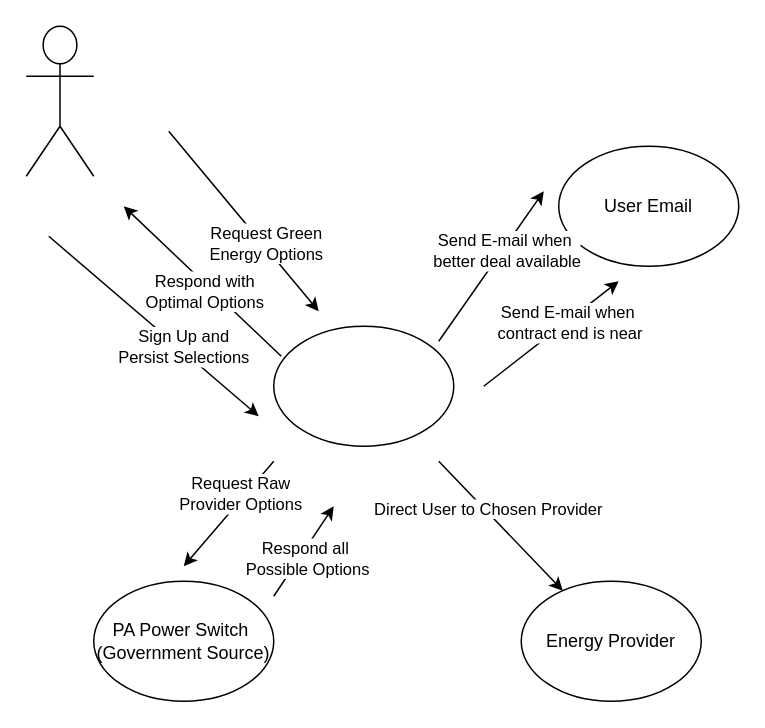
This 765x728 diagram has some shape labels left out. The box of each missing label's shape, as (x1, y1, x2, y2) in pixels:
Clean Energy PA: (272, 325, 454, 446)
User: (25, 25, 94, 176)
